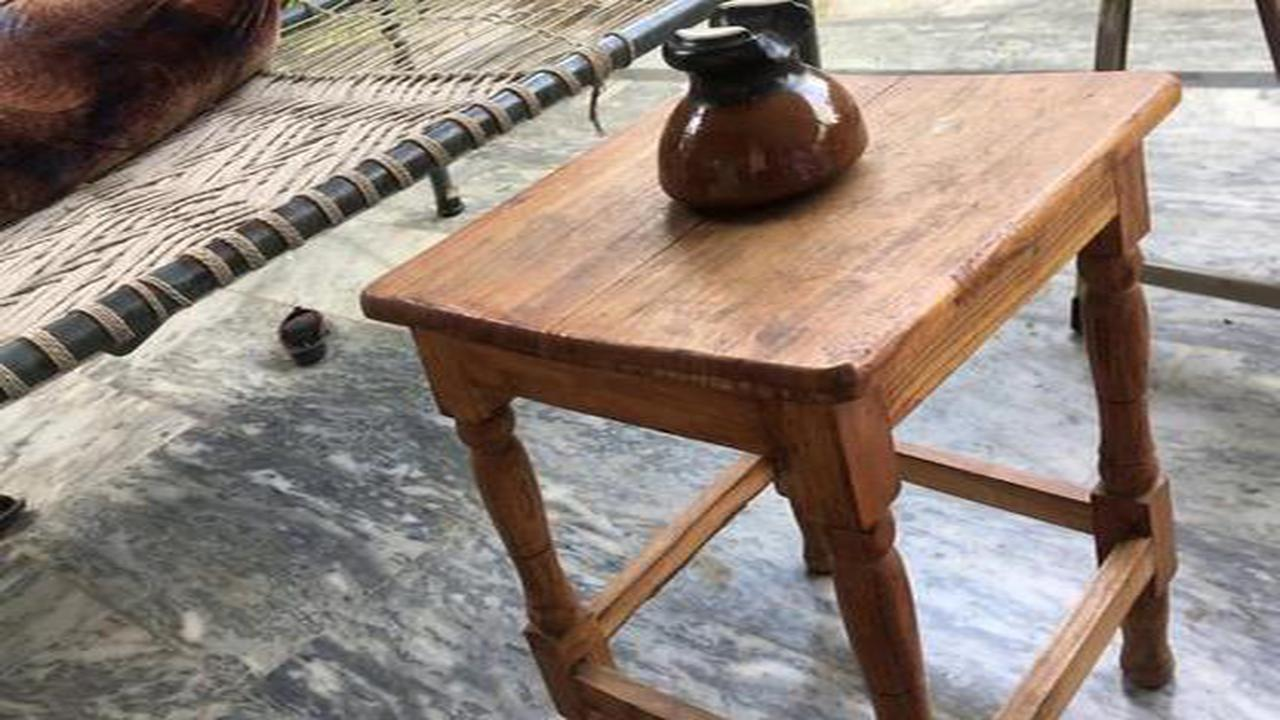insulator_pin: (641, 7, 905, 229)
